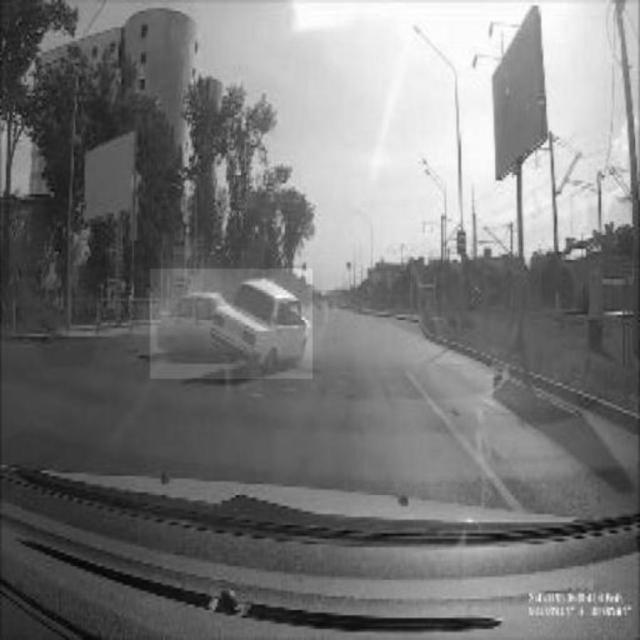accident: (150, 269, 312, 379)
